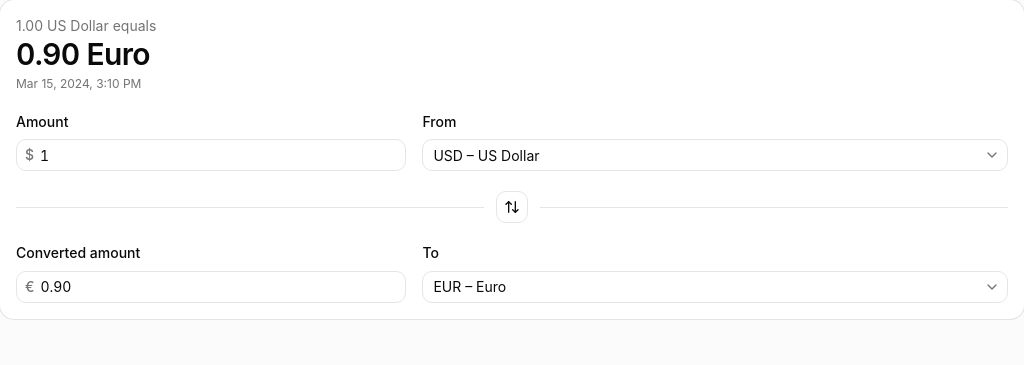
Scenario: CurrencyConverter › validates the amount and does not convert invalid input
Expected: the field labelled "Converted amount" holds "0.90", left=34, top=270, right=405, bottom=302
Replace the text in the field labelled "Amount" with "12abc". click: (220, 155)
box: left=34, top=139, right=405, bottom=171
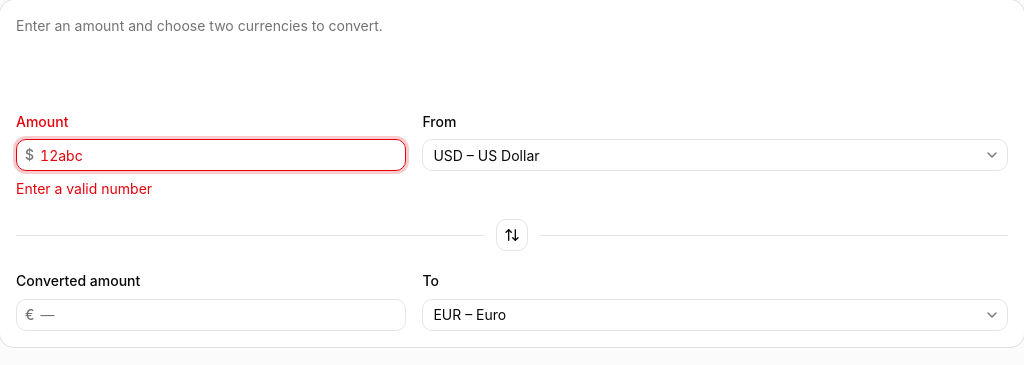
Now the field labelled "Converted amount" is empty, box left=34, top=298, right=405, bottom=330
Now the text "Enter an amount and choose two currencies to convert." is shown, box left=16, top=17, right=383, bottom=34
Now the text "Enter a valid number" is shown, box left=16, top=180, right=152, bottom=197
